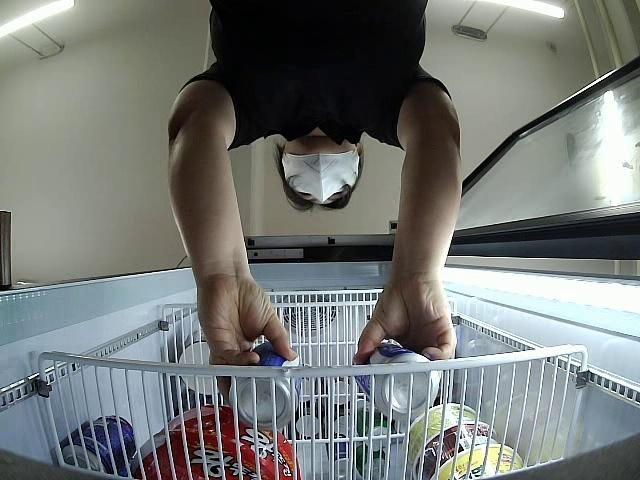13_pocariSweat: (230, 340, 306, 427), (354, 343, 438, 420)
